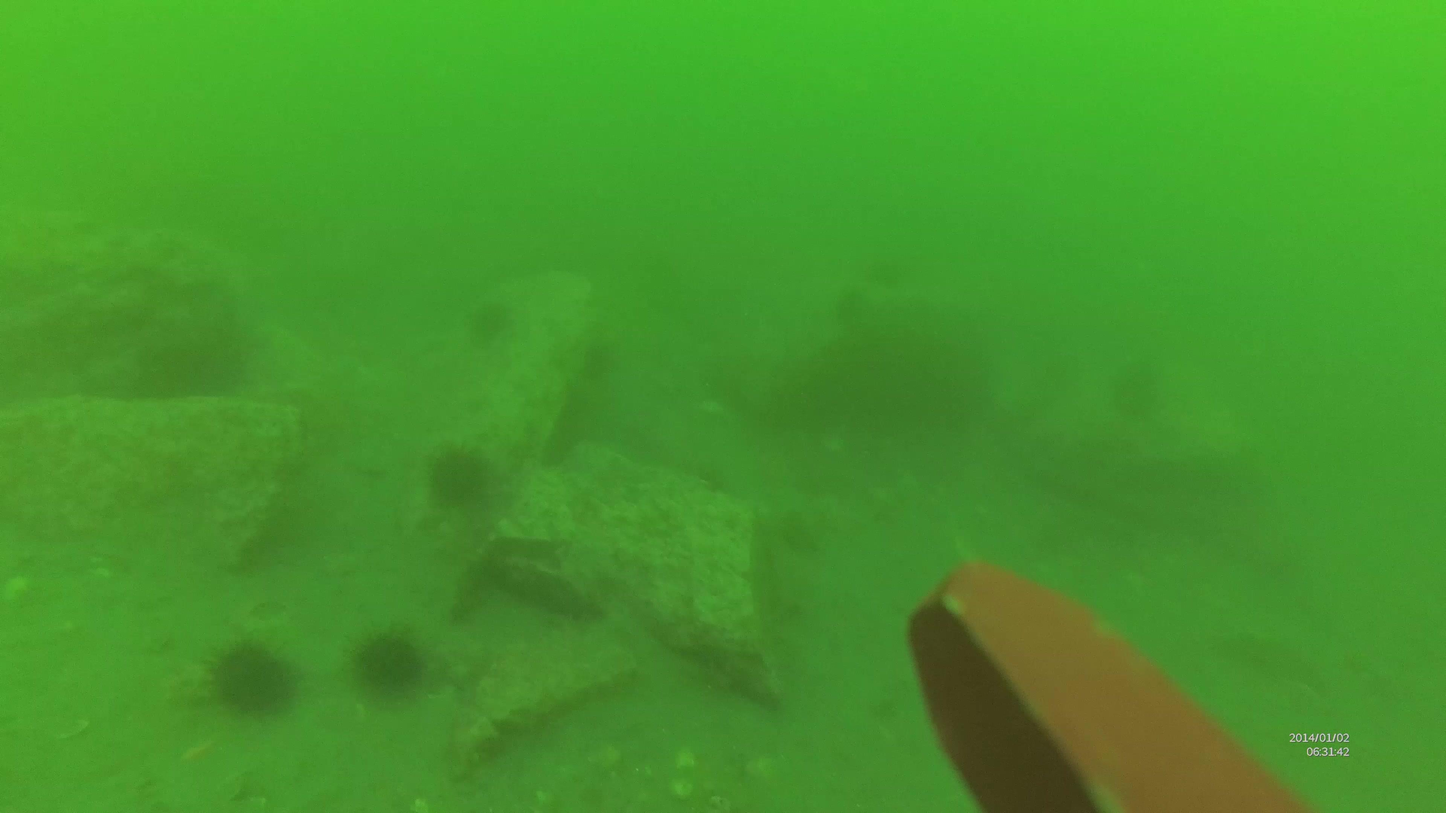starfish: (209, 641, 289, 711), (354, 630, 425, 698), (430, 444, 492, 508)
